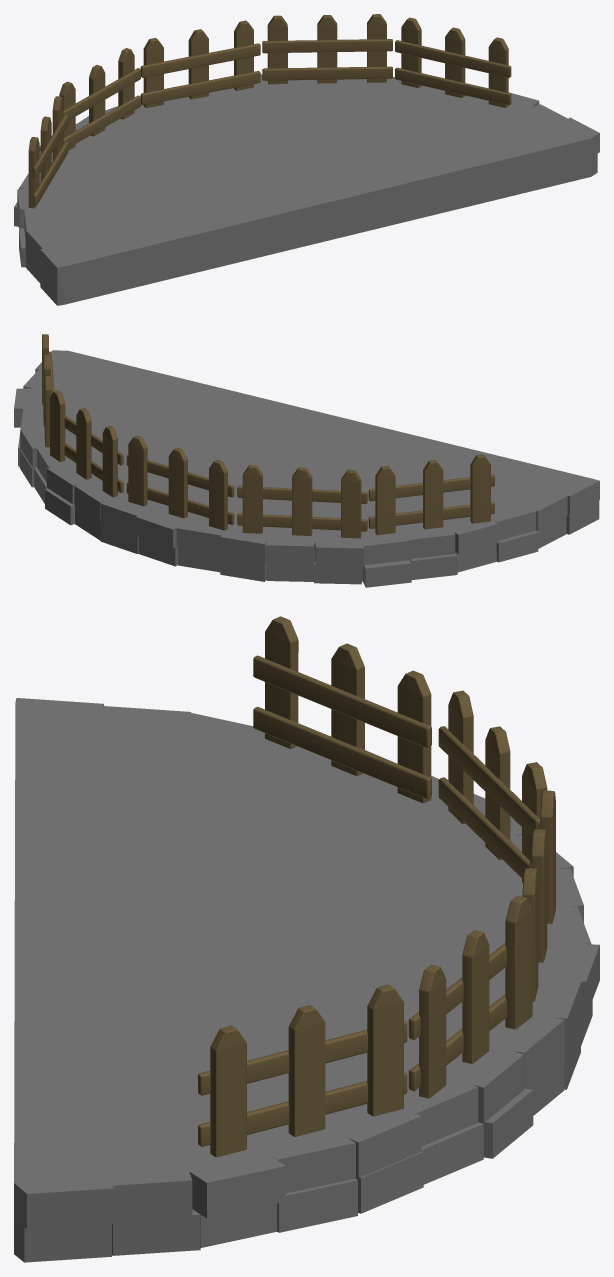
File: Balcon_Pierre.fbx
3 renders of one model, top to bottom at view 1: azimuth 30°, elevation 25°; view 2: azimuth 150°, elevation 25°; view 3: azimuth 270°, elevation 25°, orthographic. The views are drawn at different scales.
Visible parts, largest first — view 1: Base_BalconPierre, Fence; view 2: Base_BalconPierre, Fence; view 3: Base_BalconPierre, Fence.
Part boxes in pixels (<box>): Base_BalconPierre: <box>14,74,599,305</box>; Fence: <box>28,14,511,208</box>; Base_BalconPierre: <box>14,350,599,587</box>; Fence: <box>42,334,494,538</box>; Base_BalconPierre: <box>14,698,599,1262</box>; Fence: <box>198,616,555,1157</box>.
Size of the model in its own units: 20.23 by 3.69 by 10.11.
